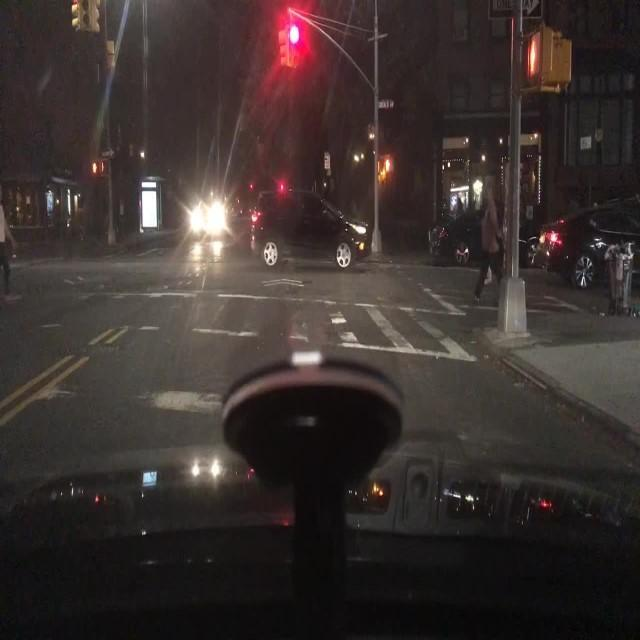normal: (225, 183, 371, 267)
